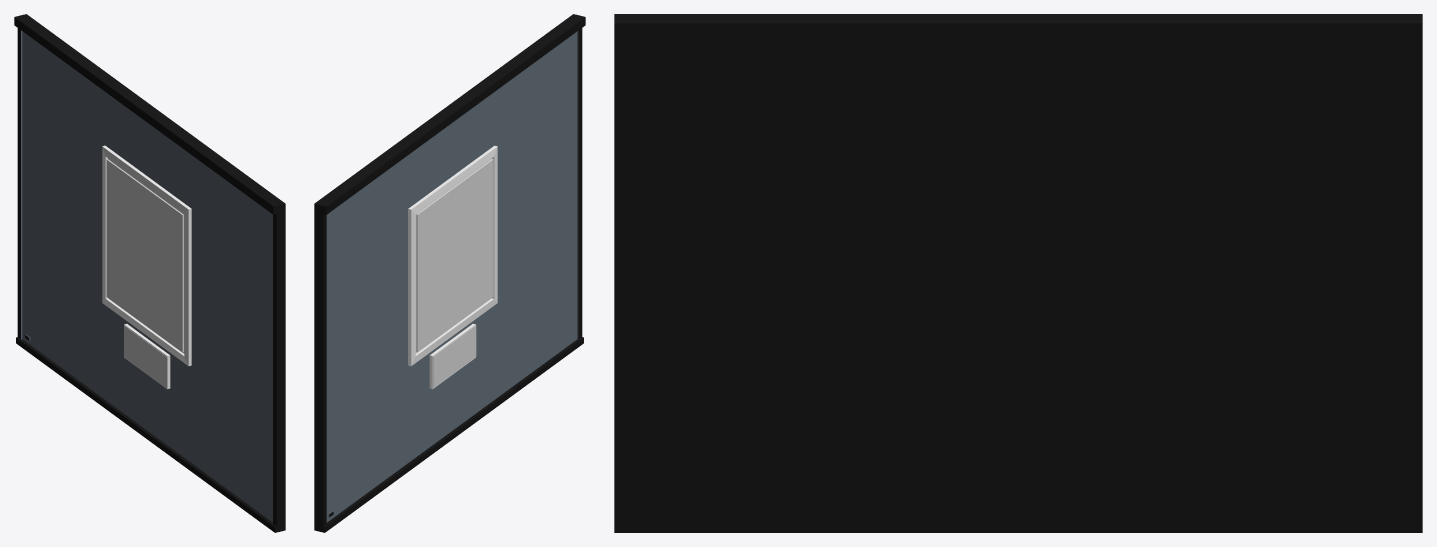
Rendered from wall.glb.
3 views of the same model, side by side, from view 1: azimuth 30°, elevation 25°; view 2: azimuth 150°, elevation 25°; view 3: azimuth 270°, elevation 25° (orthographic). The views are drawn at different scales.
Visible parts, largest first — view 1: Cube.001, Painting.001, Canvas.001, label.001, Desc.001; view 2: Cube.001, Painting.001, Canvas.001, label.001, Desc.001; view 3: Cube.001.
Part boxes in pixels (<box>): Cube.001: <box>14,14,285,532</box>; Painting.001: <box>106,159,183,352</box>; Canvas.001: <box>102,145,191,366</box>; label.001: <box>124,325,167,388</box>; Desc.001: <box>124,324,170,389</box>; Cube.001: <box>314,14,585,532</box>; Painting.001: <box>416,159,493,352</box>; Canvas.001: <box>408,145,497,366</box>; label.001: <box>433,325,476,387</box>; Desc.001: <box>429,324,475,389</box>; Cube.001: <box>614,14,1422,532</box>.
Bounding box in the file's own units: 0.3267 × 8.35 × 12.
